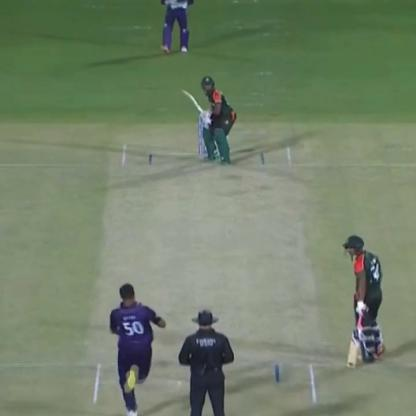bat: (174, 84, 218, 129)
pitch: (73, 134, 337, 416)
